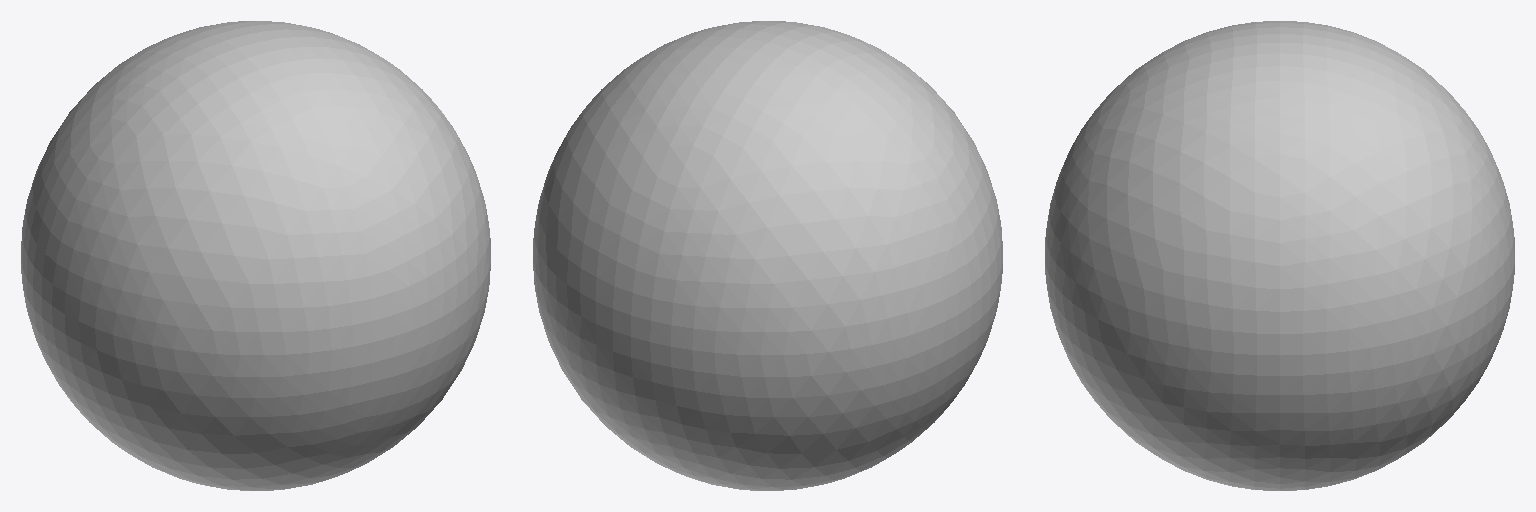
Rendered from basic-ball.obj.
3 views of the same model, side by side, from view 1: azimuth 30°, elevation 25°; view 2: azimuth 150°, elevation 25°; view 3: azimuth 270°, elevation 25° (orthographic).
Size of the model in its own units: 2 by 2 by 2.